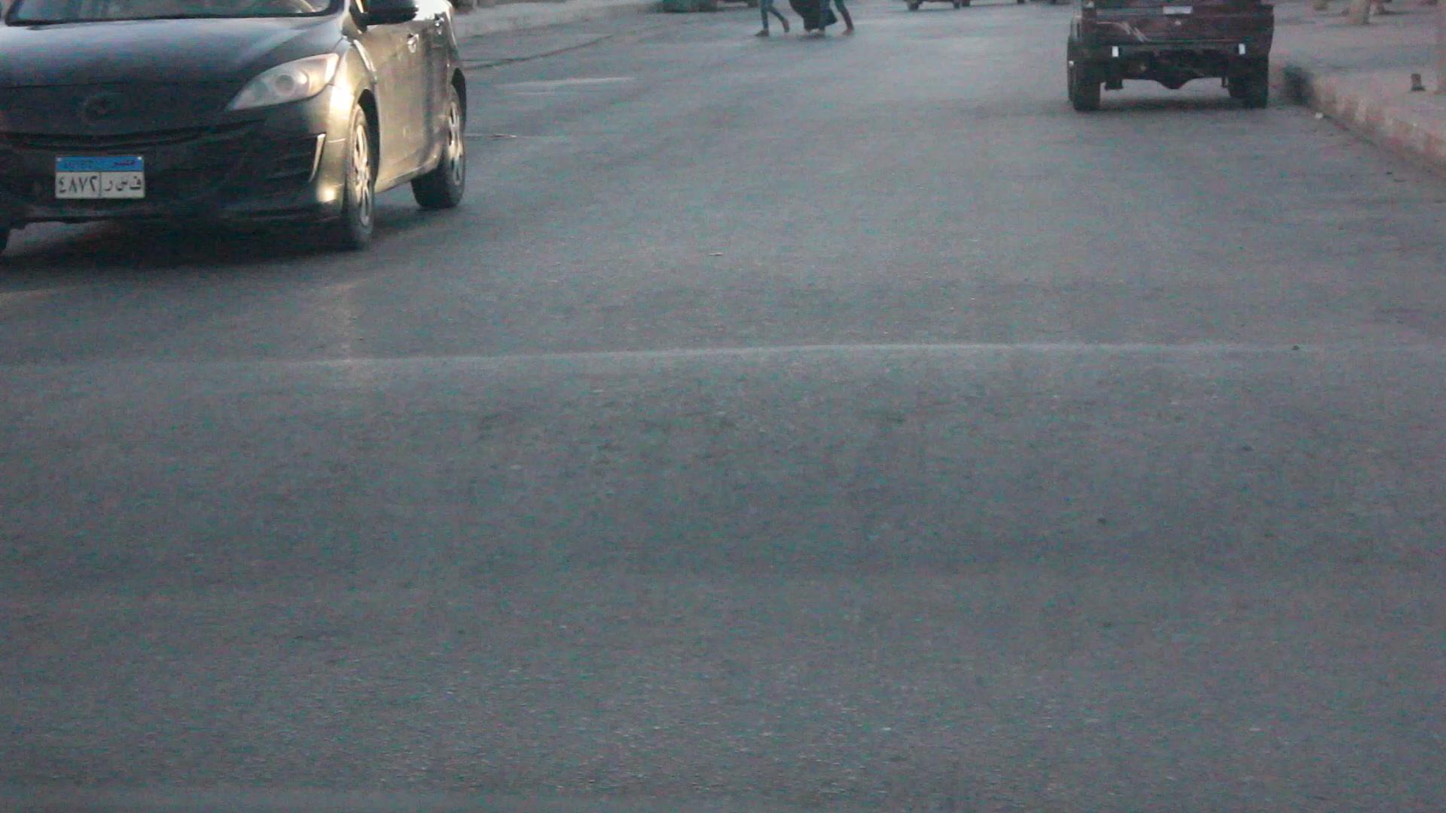Bump: (0, 354, 1446, 610)
